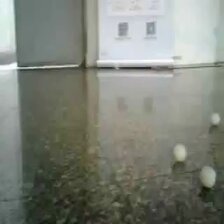w: (198, 166, 217, 187), (172, 144, 187, 160), (209, 113, 221, 126)
